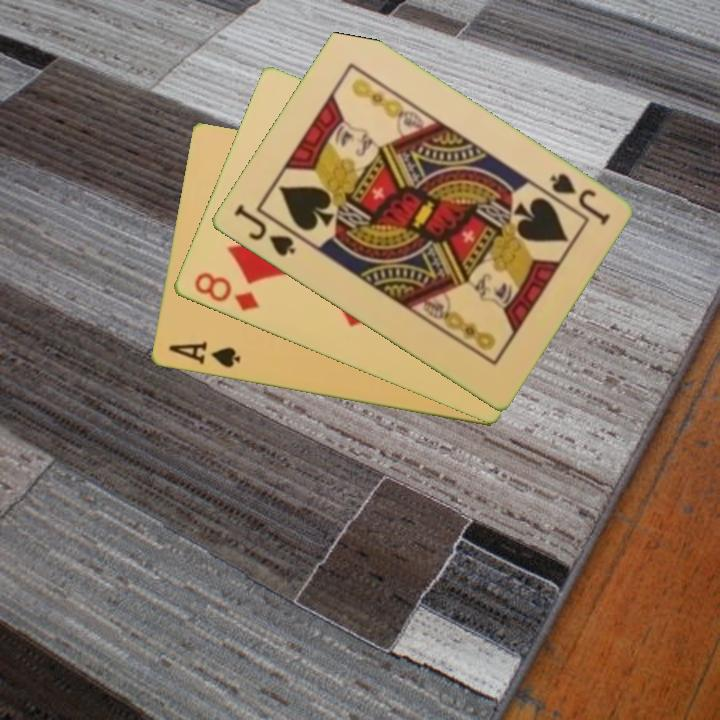8d: (190, 269, 262, 314)
As: (164, 338, 243, 371)
Js: (229, 200, 298, 260), (545, 169, 613, 229)
